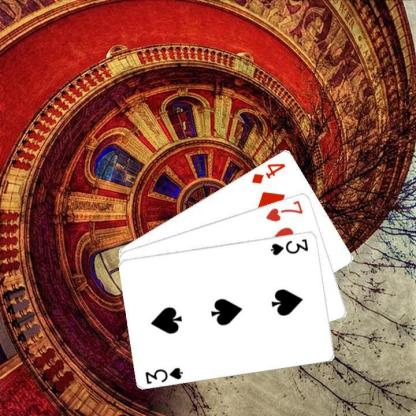3S: (268, 236, 310, 256), (143, 364, 184, 384)
4D: (249, 160, 287, 185)
7H: (263, 198, 304, 223)
